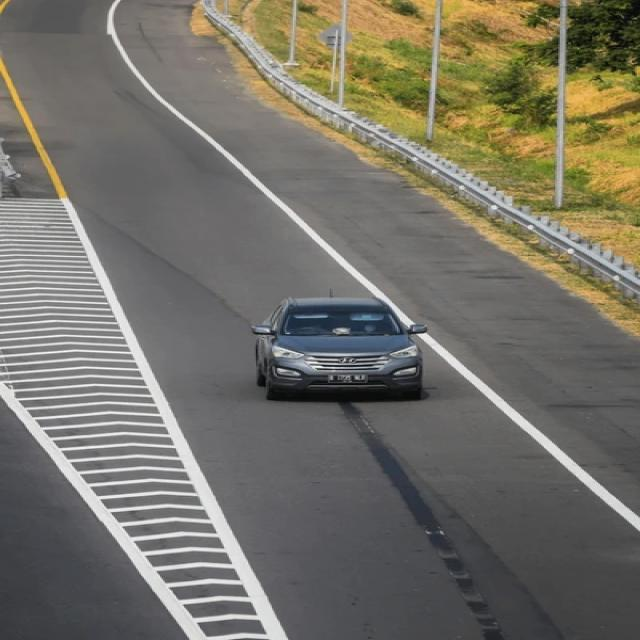hyundai: (337, 356, 362, 370)
